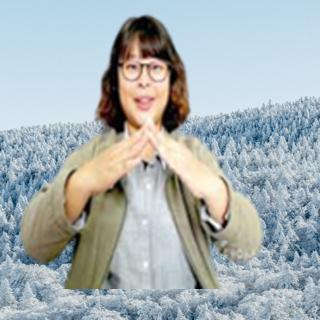HOME: (79, 113, 212, 202)
